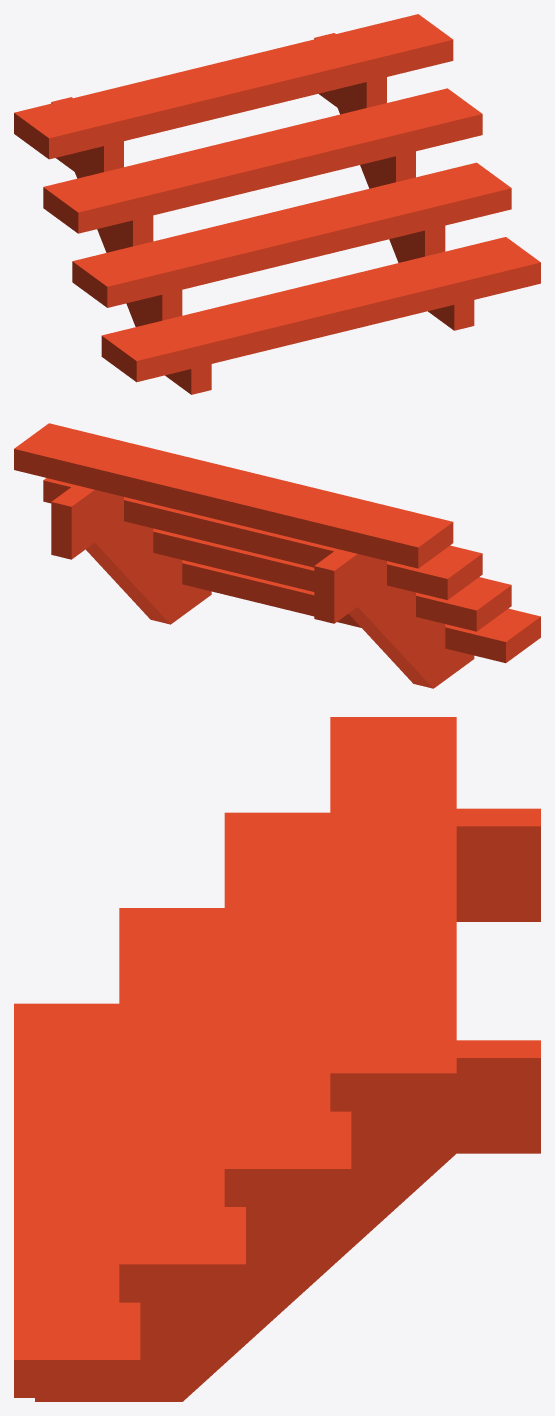
The model's file is SM_Stairs_Wood_Regular_2m.fbx.
3 renders of one model, top to bottom at view 1: azimuth 30°, elevation 25°; view 2: azimuth 150°, elevation 25°; view 3: azimuth 270°, elevation 25°, orthographic. The views are drawn at different scales.
Visible parts, largest first — view 1: stairs-wood-regular-2m; view 2: stairs-wood-regular-2m; view 3: stairs-wood-regular-2m.
Part boxes in pixels (x1=…): stairs-wood-regular-2m: x1=14, y1=14, x2=540, y2=394; stairs-wood-regular-2m: x1=14, y1=423, x2=540, y2=688; stairs-wood-regular-2m: x1=14, y1=717, x2=540, y2=1401.
Bounding box in the file's own units: 2 × 1 × 1.25.
